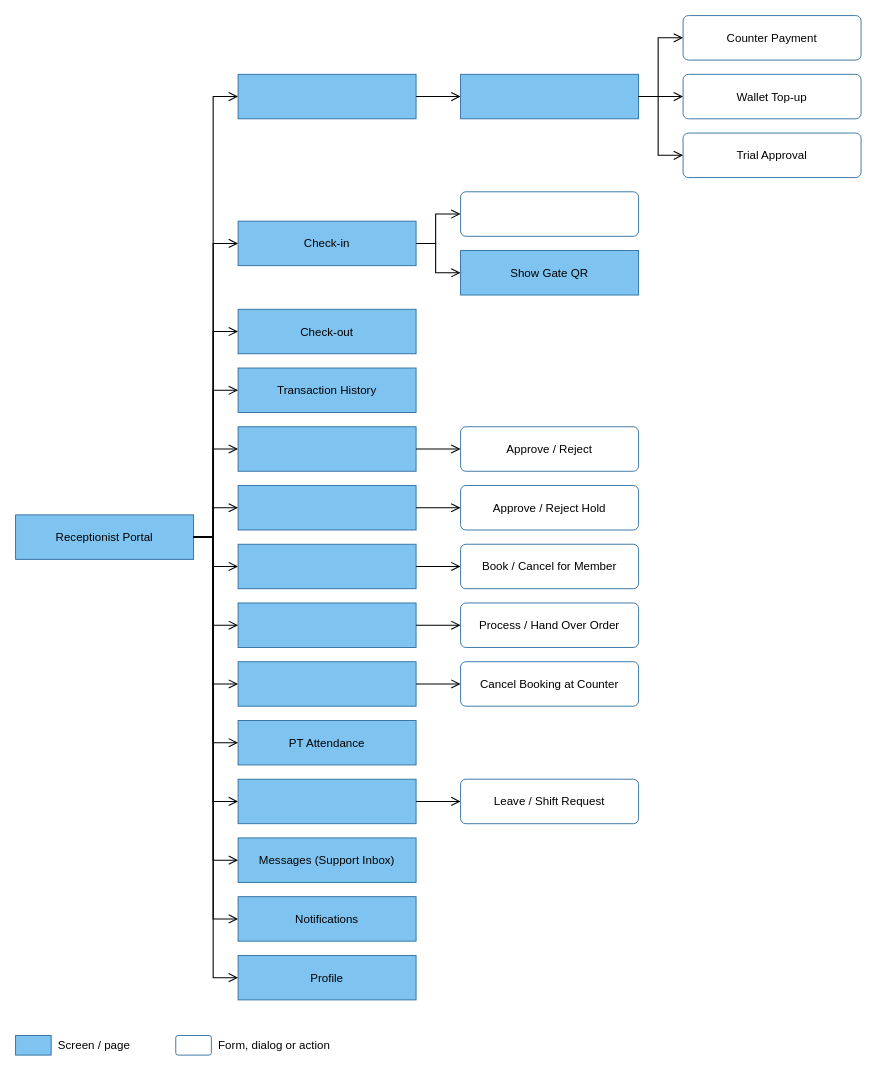
Some shapes in this 877 by 1072 pixel diagram are drawn without their labels. The shapes that lost their labels are listed below. From the top down, each one's box as (x1, y1, x2, y2) in pixels, then its label:
(237, 73, 416, 119): Front Desk & POS
(460, 73, 639, 119): Member Lookup
(460, 191, 639, 236): Gate QR Scanner
(237, 426, 416, 471): Identity Review (KYC)
(237, 485, 416, 530): Membership Holds
(237, 543, 416, 589): Court Bookings
(237, 602, 416, 647): Product Orders
(237, 661, 416, 706): Class Management
(237, 778, 416, 824): Internal Requests
